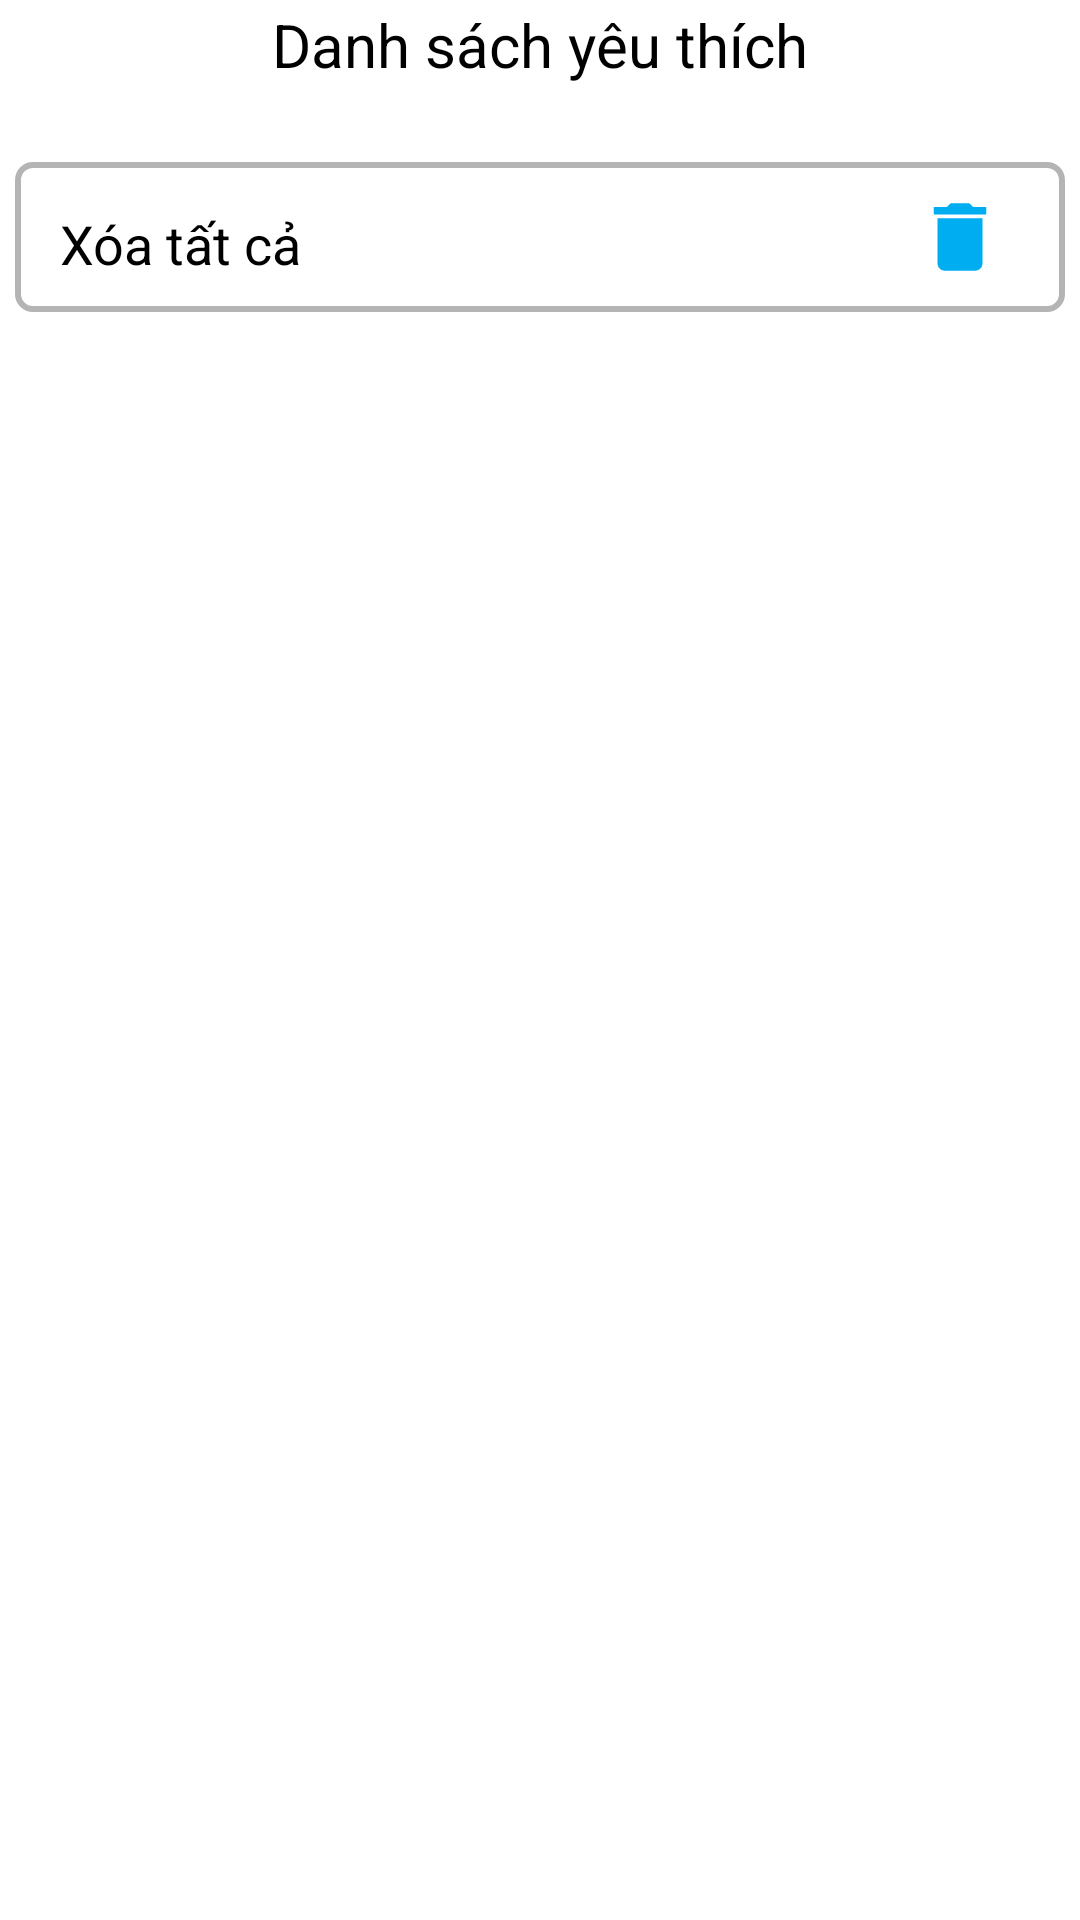

Icons on this 1080x1920 Android screen, each with its box as {"x1": x1, "y1": y1, "x2": x2, "y2": y2}:
delete: {"x1": 933, "y1": 203, "x2": 987, "y2": 271}
